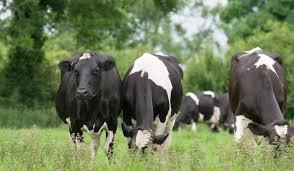cow: (229, 48, 293, 154), (121, 52, 183, 157), (58, 53, 118, 157)
